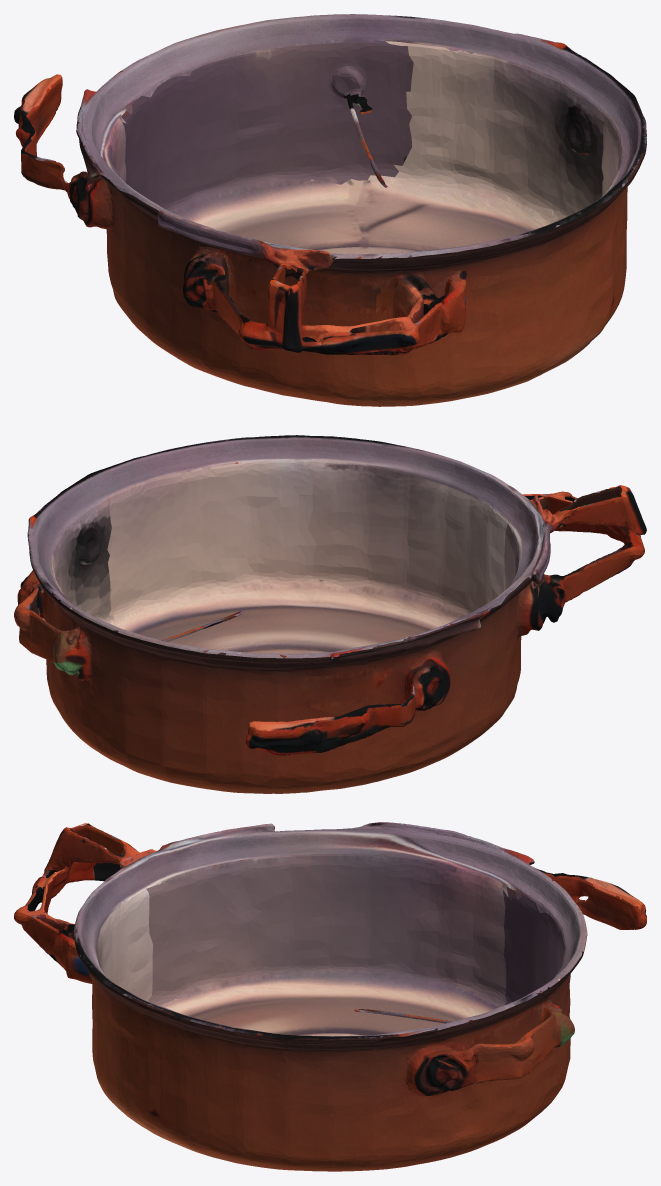
Rendered from image_0000_segmented.glb.
3 renders of one model, top to bottom at view 1: azimuth 30°, elevation 25°; view 2: azimuth 150°, elevation 25°; view 3: azimuth 270°, elevation 25°, orthographic. The views are drawn at different scales.
Visible parts, largest first — view 1: tmpnwto1vlm.ply; view 2: tmpnwto1vlm.ply; view 3: tmpnwto1vlm.ply.
Boxes of the visible parts, <box> form: tmpnwto1vlm.ply: <box>14,14,646,406</box>; tmpnwto1vlm.ply: <box>14,435,646,793</box>; tmpnwto1vlm.ply: <box>14,822,646,1171</box>.
Bounding box in the file's own units: 1.63 × 0.5927 × 2.
Materials: 1 (1 with a texture image).
